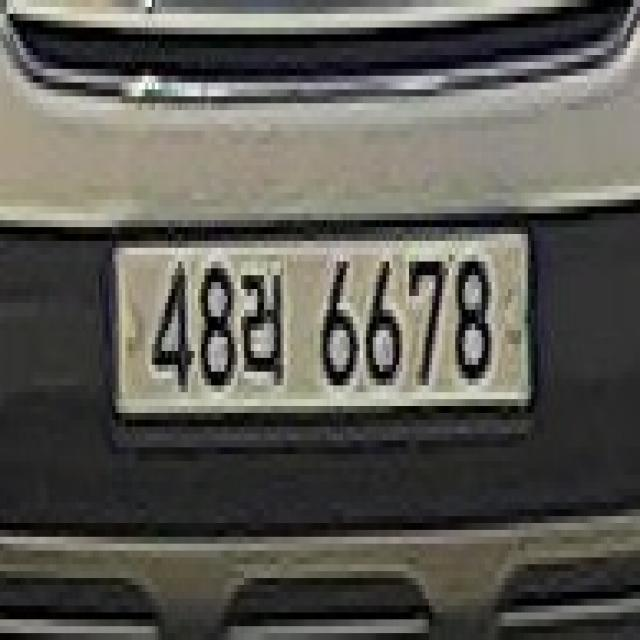4: (148, 255, 196, 408)
6: (316, 250, 362, 405), (363, 251, 402, 404)
7: (404, 249, 450, 406)
8: (454, 256, 498, 394), (197, 263, 236, 400)
leo: (238, 263, 294, 402)
license_plate: (104, 219, 539, 434)
